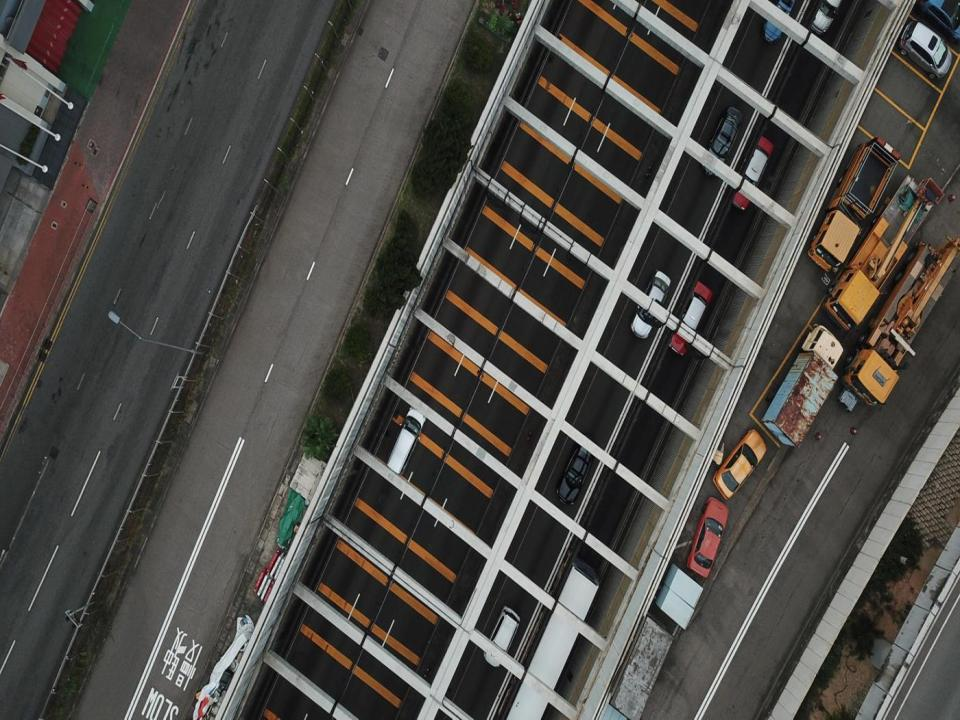bus: (499, 553, 599, 719)
car: (724, 132, 774, 209), (712, 429, 766, 500), (667, 279, 713, 356), (687, 497, 728, 578), (898, 19, 952, 80), (700, 106, 743, 177), (631, 268, 670, 338), (557, 434, 594, 503), (920, 0, 960, 43)
truck: (837, 236, 960, 413), (821, 174, 945, 332), (807, 136, 901, 273), (761, 322, 843, 448)
van: (387, 406, 426, 475), (483, 606, 519, 667), (760, 0, 796, 44), (808, 0, 842, 35)
